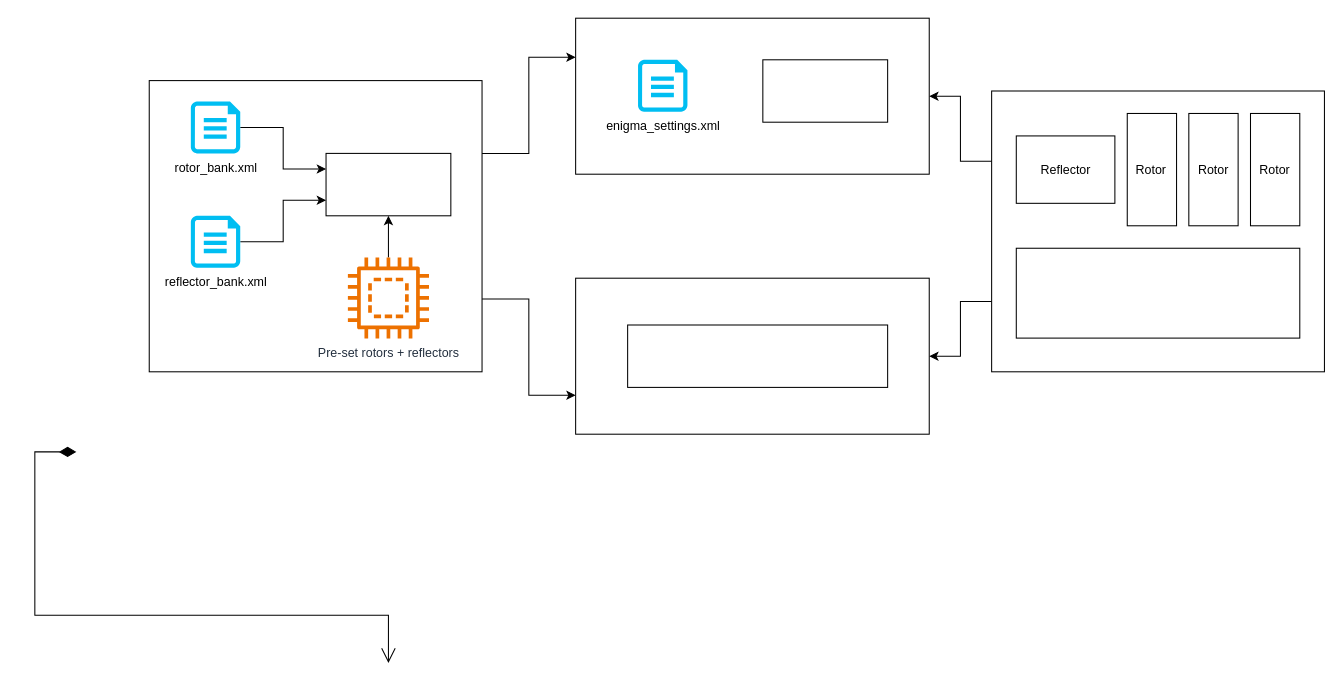
This 1343x699 diagram has some shape labels left out. Here are the shapes that lost their labels. From the top down, the box of each, then its label:
(762, 59, 888, 122): EnigmaSimulatorCLI
(325, 152, 451, 216): ComponentCache
(1015, 247, 1300, 338): Plugboard
(627, 324, 888, 387): EnigmaSimulatorApp
